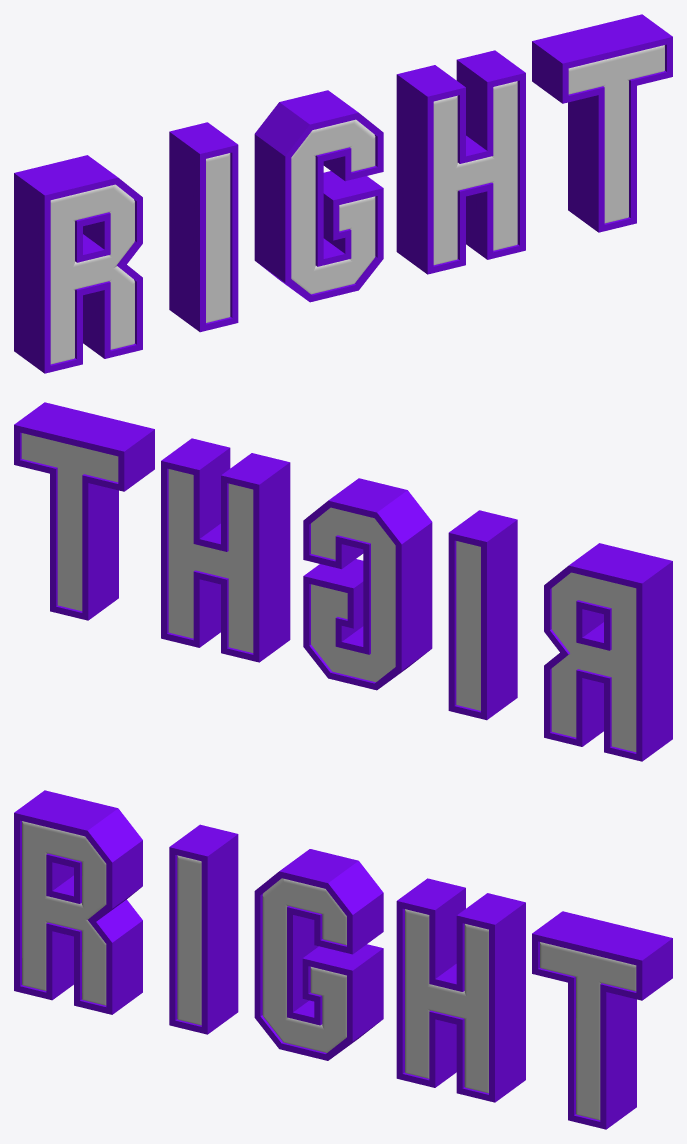
The model's file is Right3DText.fbx.
The picture shows the model from 3 angles, top to bottom: view 1: azimuth 30°, elevation 25°; view 2: azimuth 150°, elevation 25°; view 3: azimuth 330°, elevation 25°; orthographic projection.
Parts seen in each view (by area): view 1: Extrusion Model.000, Extrusion Model; view 2: Extrusion Model.000, Extrusion Model; view 3: Extrusion Model.000, Extrusion Model.
Boxes of the visible parts, x1=… form: Extrusion Model.000: x1=14, y1=14, x2=672, y2=373; Extrusion Model: x1=50, y1=45, x2=664, y2=364; Extrusion Model.000: x1=14, y1=402, x2=672, y2=761; Extrusion Model: x1=21, y1=433, x2=636, y2=752; Extrusion Model.000: x1=14, y1=790, x2=672, y2=1129; Extrusion Model: x1=22, y1=821, x2=636, y2=1120.
Size of the model in its own units: 56.24 by 15.78 by 4.77.
